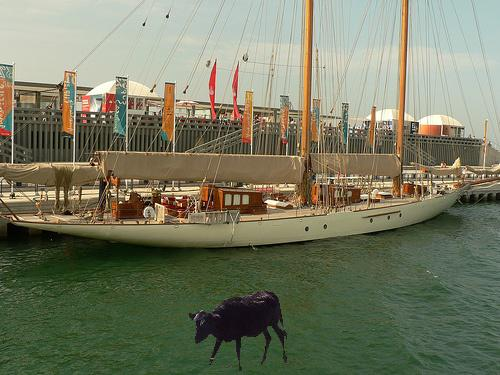tampered: (190, 292, 287, 371)
